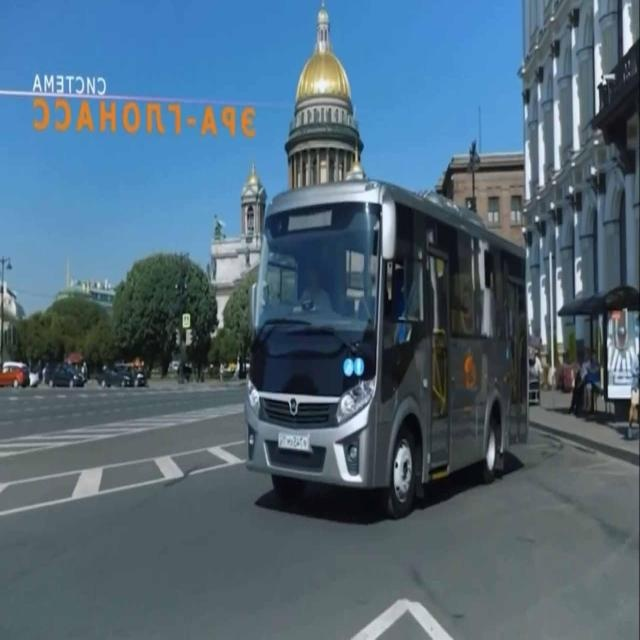Bus: (247, 165, 538, 498)
